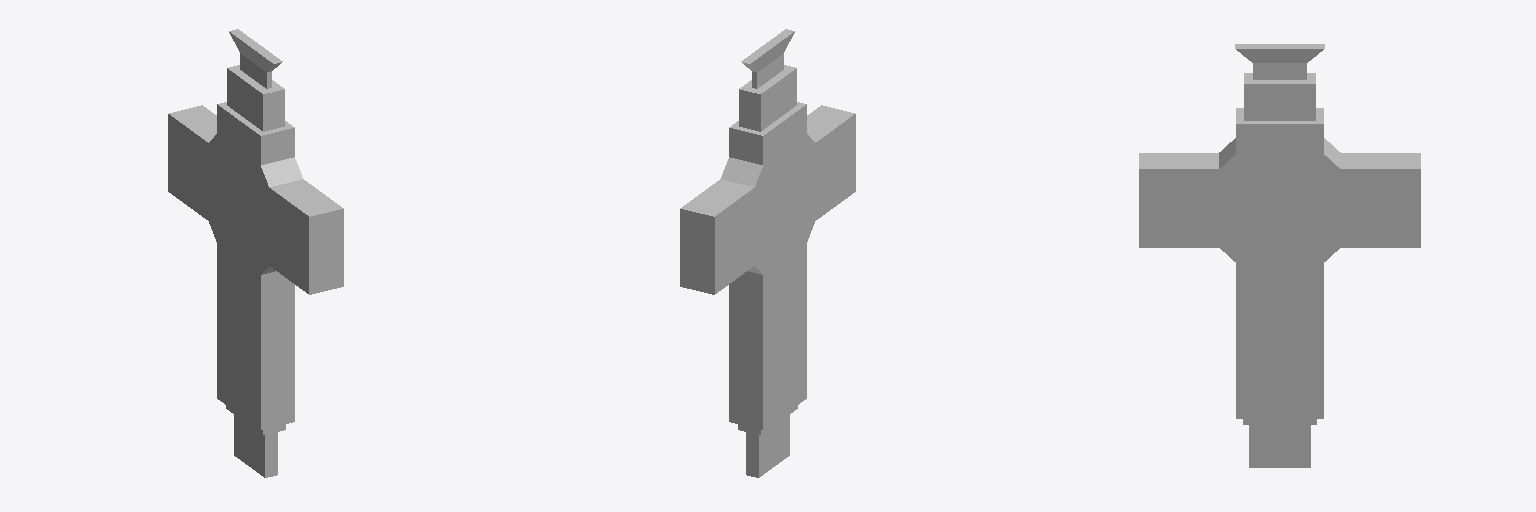
Rendered from Macguffin.obj.
The picture shows the model from 3 angles: view 1: azimuth 30°, elevation 25°; view 2: azimuth 150°, elevation 25°; view 3: azimuth 270°, elevation 25°; orthographic projection.
Parts seen in each view (by area): view 1: Cube; view 2: Cube; view 3: Cube.
Part boxes in pixels (x1,y1,x2,y2): Cube: (168, 29, 343, 477); Cube: (680, 29, 855, 477); Cube: (1139, 44, 1420, 467).
Size of the model in its own units: 0.0839 by 0.9801 by 0.5988.